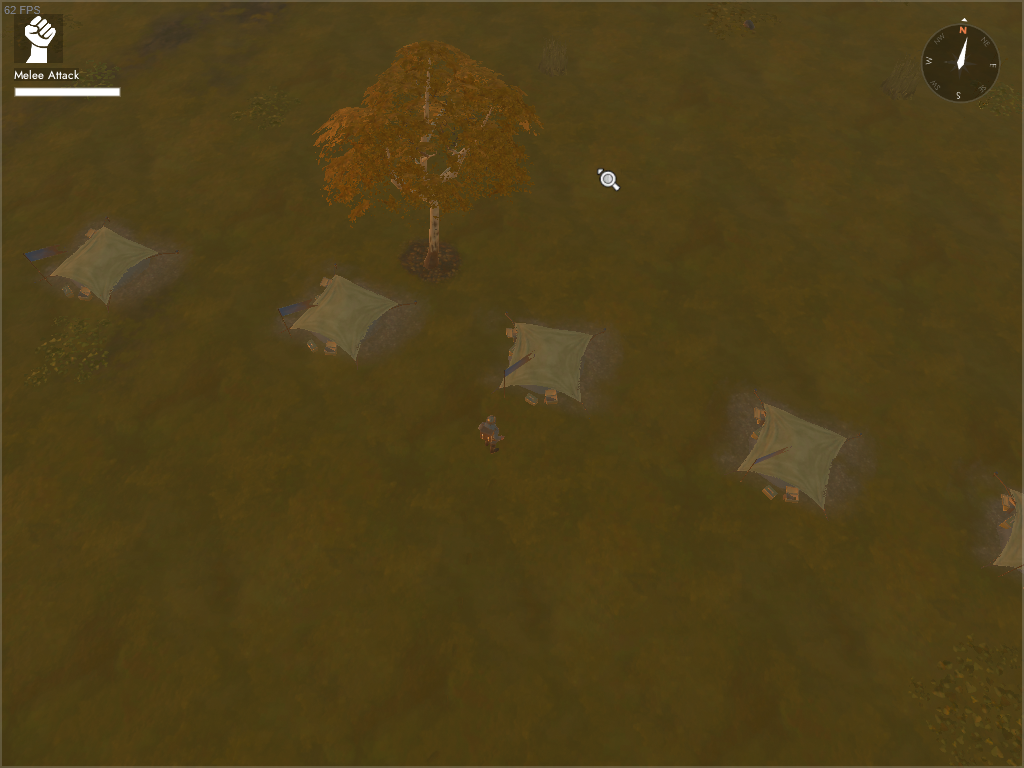foxhole: (701, 381, 870, 538), (20, 209, 190, 325), (266, 259, 428, 380), (489, 304, 609, 420), (966, 463, 1024, 593)
player: (475, 412, 505, 456)
